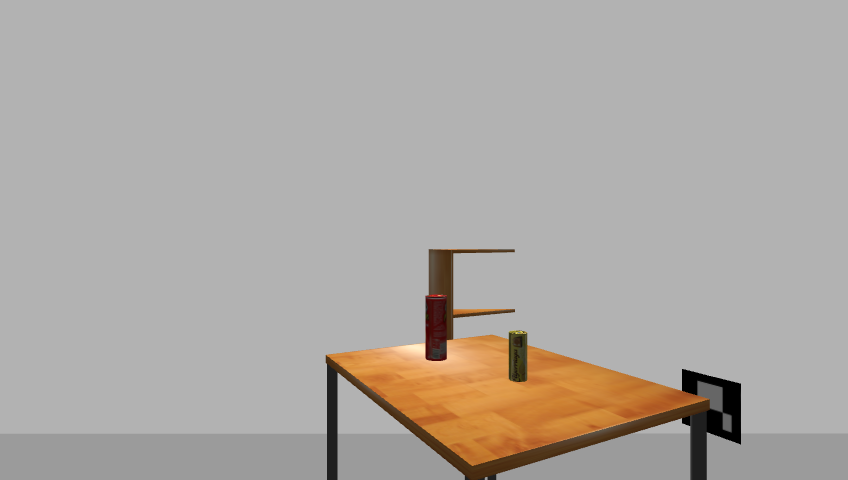aruco marker: (676, 367, 746, 446)
biscuits pack: (507, 331, 529, 383)
bookshelf: (425, 244, 521, 377)
dinner table: (316, 334, 718, 480)
pringles can: (423, 294, 450, 363)
